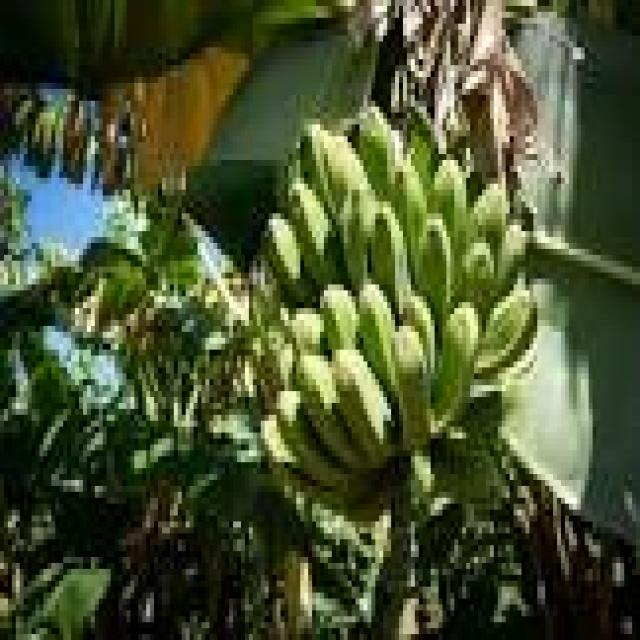banana: (261, 415, 367, 515), (297, 356, 367, 474), (332, 350, 395, 468), (277, 392, 351, 491), (301, 125, 371, 219), (431, 303, 481, 432), (475, 285, 537, 379), (289, 178, 339, 284), (396, 326, 434, 450), (372, 202, 410, 314), (415, 220, 454, 325), (356, 107, 399, 201), (360, 285, 395, 397), (340, 190, 379, 290), (396, 160, 426, 278), (265, 214, 304, 302), (431, 160, 466, 254), (403, 291, 438, 373), (471, 184, 509, 254), (320, 285, 359, 349), (463, 238, 493, 319), (498, 226, 525, 296), (289, 309, 323, 355)
